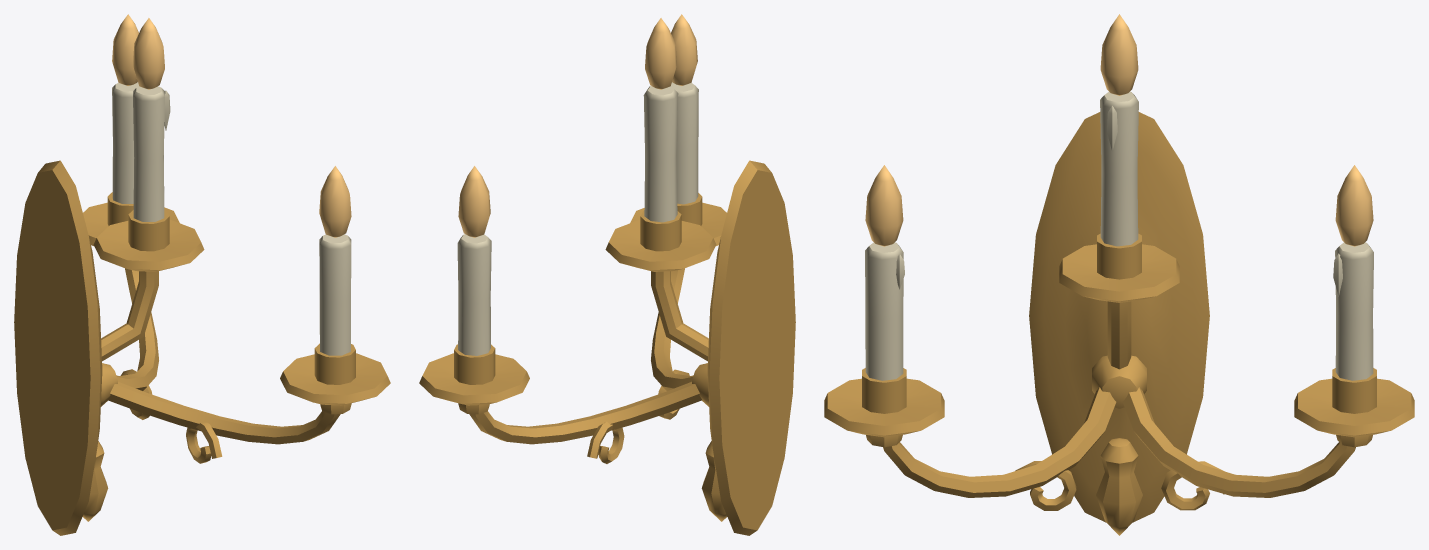
File: candle_sconce@1.glb
3 renders of one model, left to right at view 1: azimuth 30°, elevation 25°; view 2: azimuth 150°, elevation 25°; view 3: azimuth 270°, elevation 25°, orthographic. The views are drawn at different scales.
Visible parts, largest first — view 1: schild, kerzen, teller, flammen; view 2: schild, kerzen, teller, flammen; view 3: schild, teller, kerzen, flammen.
Part boxes in pixels (x1=…): schild: x1=14, y1=160, x2=351, y2=535; kerzen: x1=112, y1=82, x2=351, y2=355; teller: x1=83, y1=192, x2=390, y2=405; flammen: x1=112, y1=14, x2=351, y2=237; schild: x1=458, y1=160, x2=795, y2=535; kerzen: x1=457, y1=82, x2=698, y2=355; teller: x1=419, y1=193, x2=726, y2=405; flammen: x1=458, y1=14, x2=697, y2=237; schild: x1=866, y1=112, x2=1372, y2=535; teller: x1=824, y1=233, x2=1414, y2=437; kerzen: x1=865, y1=91, x2=1373, y2=380; flammen: x1=865, y1=14, x2=1373, y2=246.
Size of the model in its own units: 0.165 by 0.344 by 0.3266.
